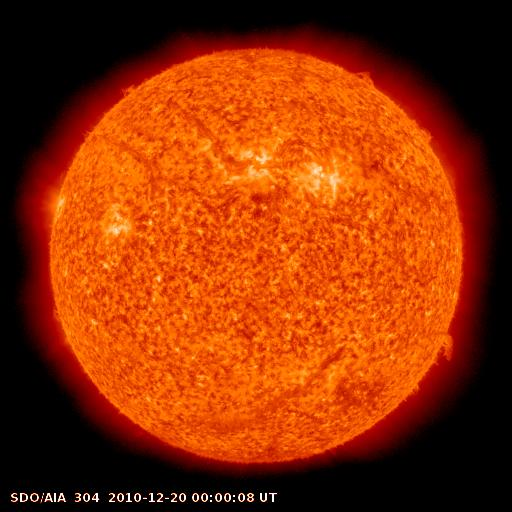prominence: (415, 322, 469, 378), (339, 56, 393, 104), (404, 113, 444, 155), (105, 75, 148, 105)
